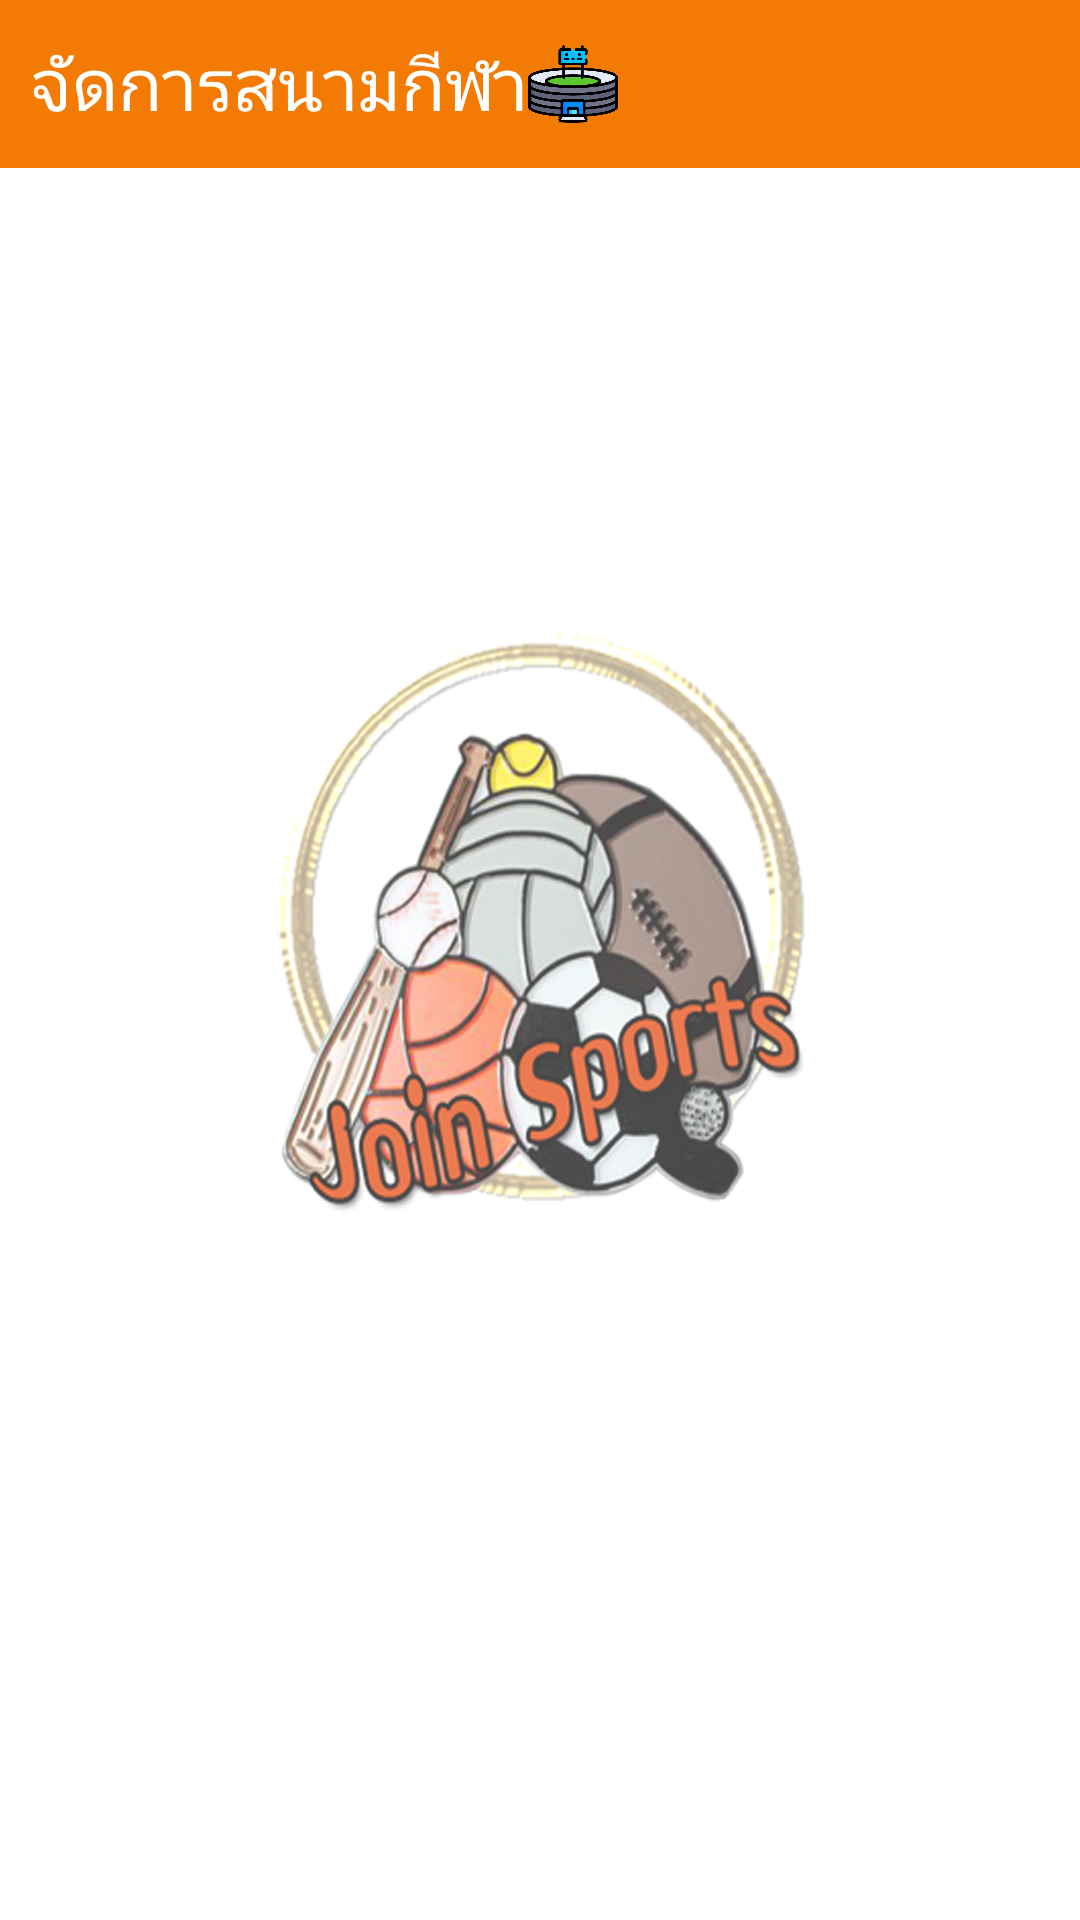

Point at icon controls on the screen. Image size 1080x1920, points as [x,y].
stadiam: [573,84]
